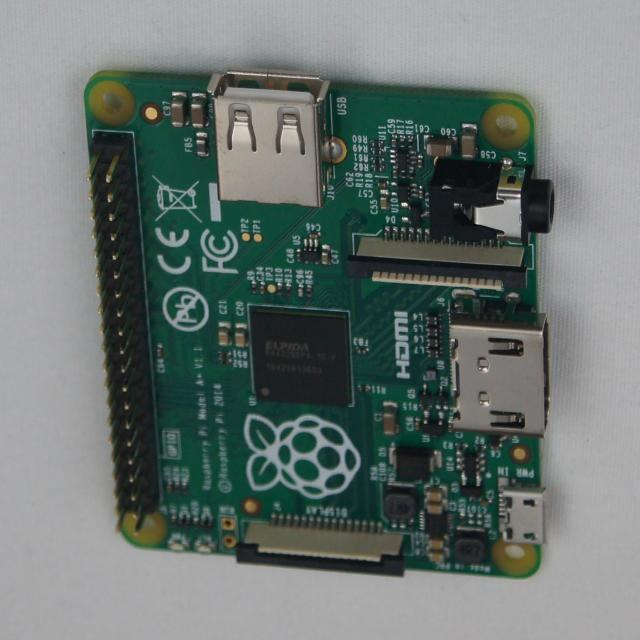Raspberry-Pi-1-A-: (85, 71, 555, 577)
